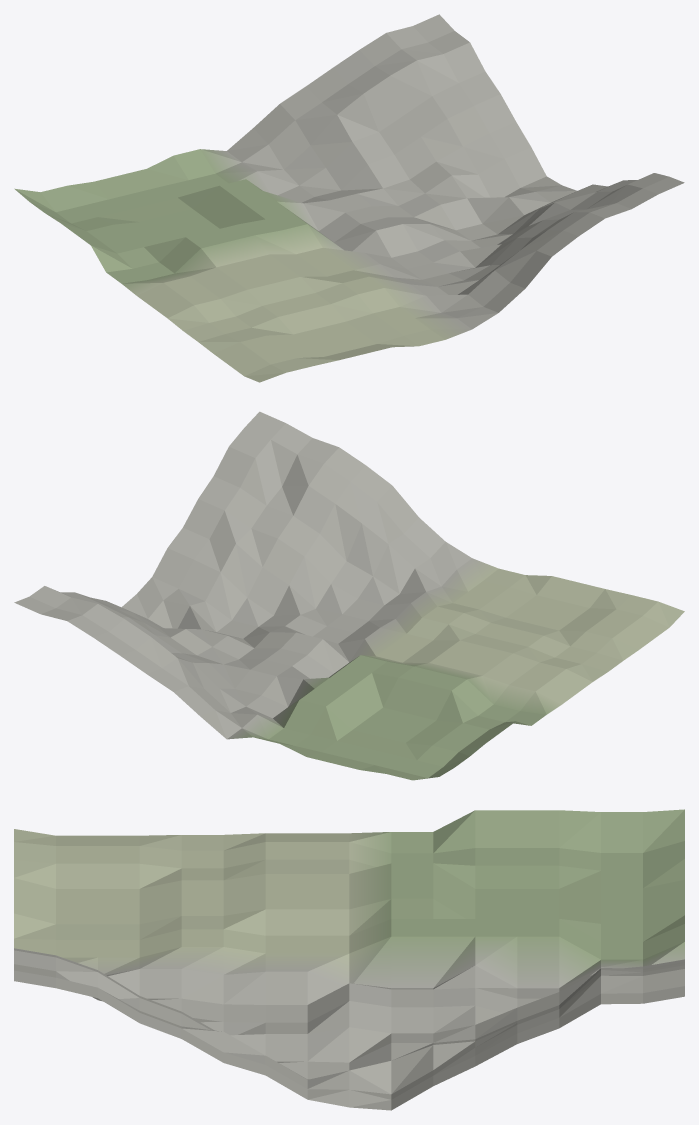
The picture shows the model from 3 angles, top to bottom: view 1: azimuth 30°, elevation 25°; view 2: azimuth 150°, elevation 25°; view 3: azimuth 270°, elevation 25°; orthographic projection. The views are drawn at different scales.
Bounding box in the file's own units: 32 × 8.02 × 32.
